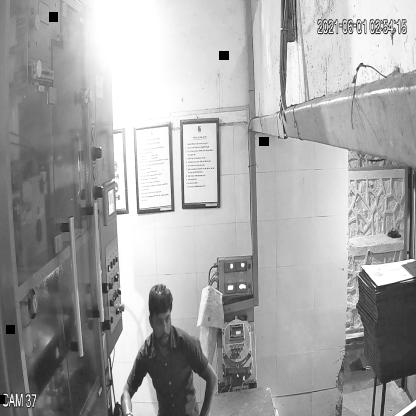no_goggles: (148, 311, 174, 333)
